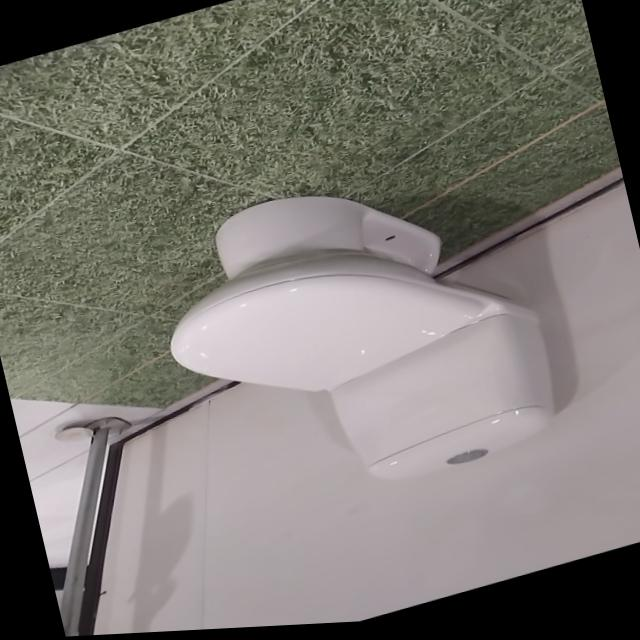toilet: (144, 137, 568, 541)
